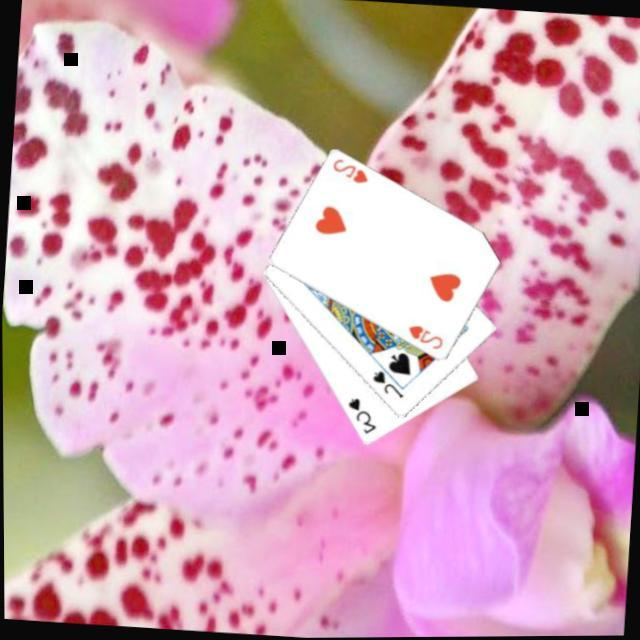2H: (401, 319, 445, 351), (327, 153, 371, 185)
3S: (340, 392, 379, 436)
JS: (366, 365, 406, 400)
